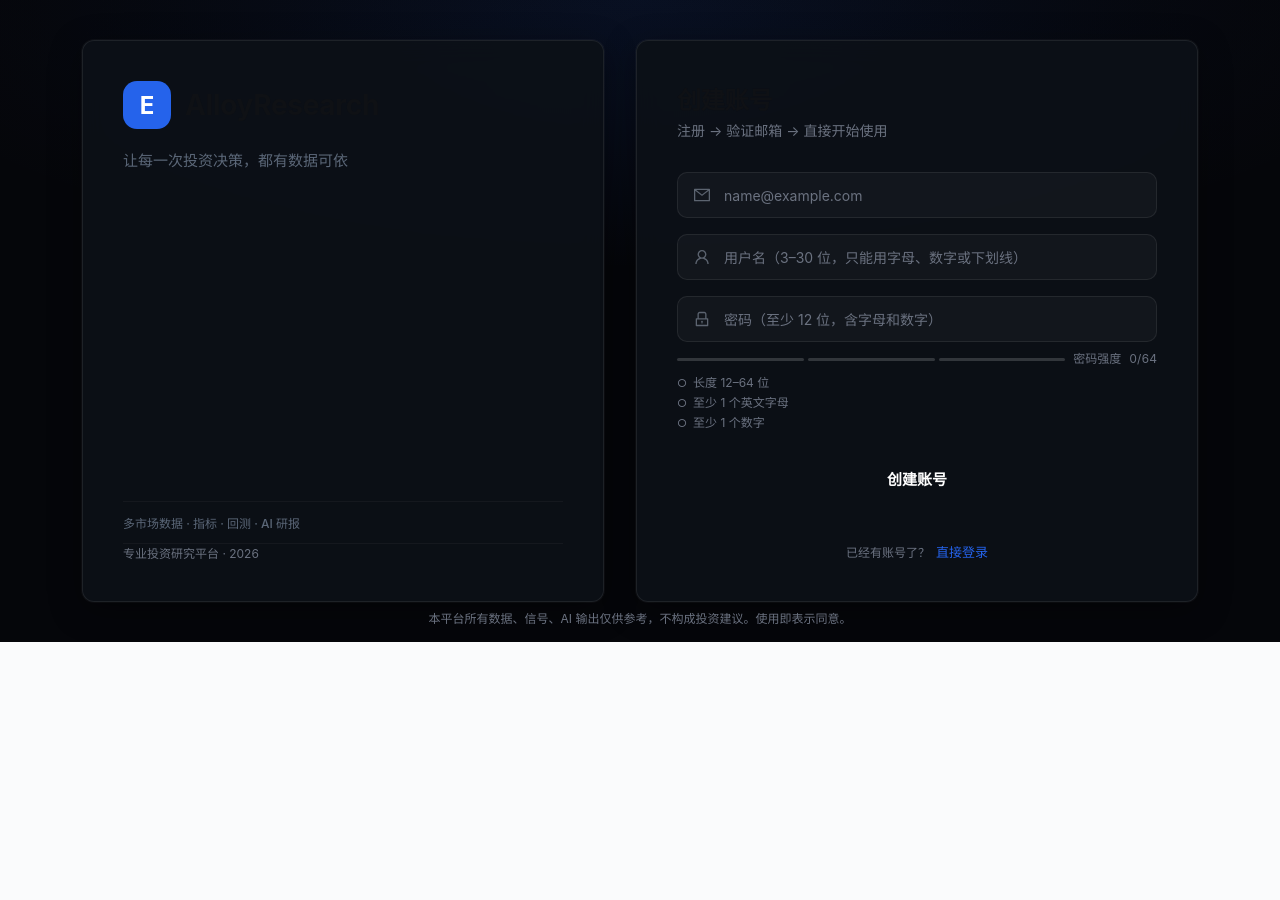
Scenario: 注册表单校验与提交流程 › 用户名被占用时展示人话文案 + 可点选的建议
The width and height of the screenshot is (1280, 900).
Step 1. Type "aidan" into the field labelled "用户名" → (931, 257), box [722,234,1140,280]
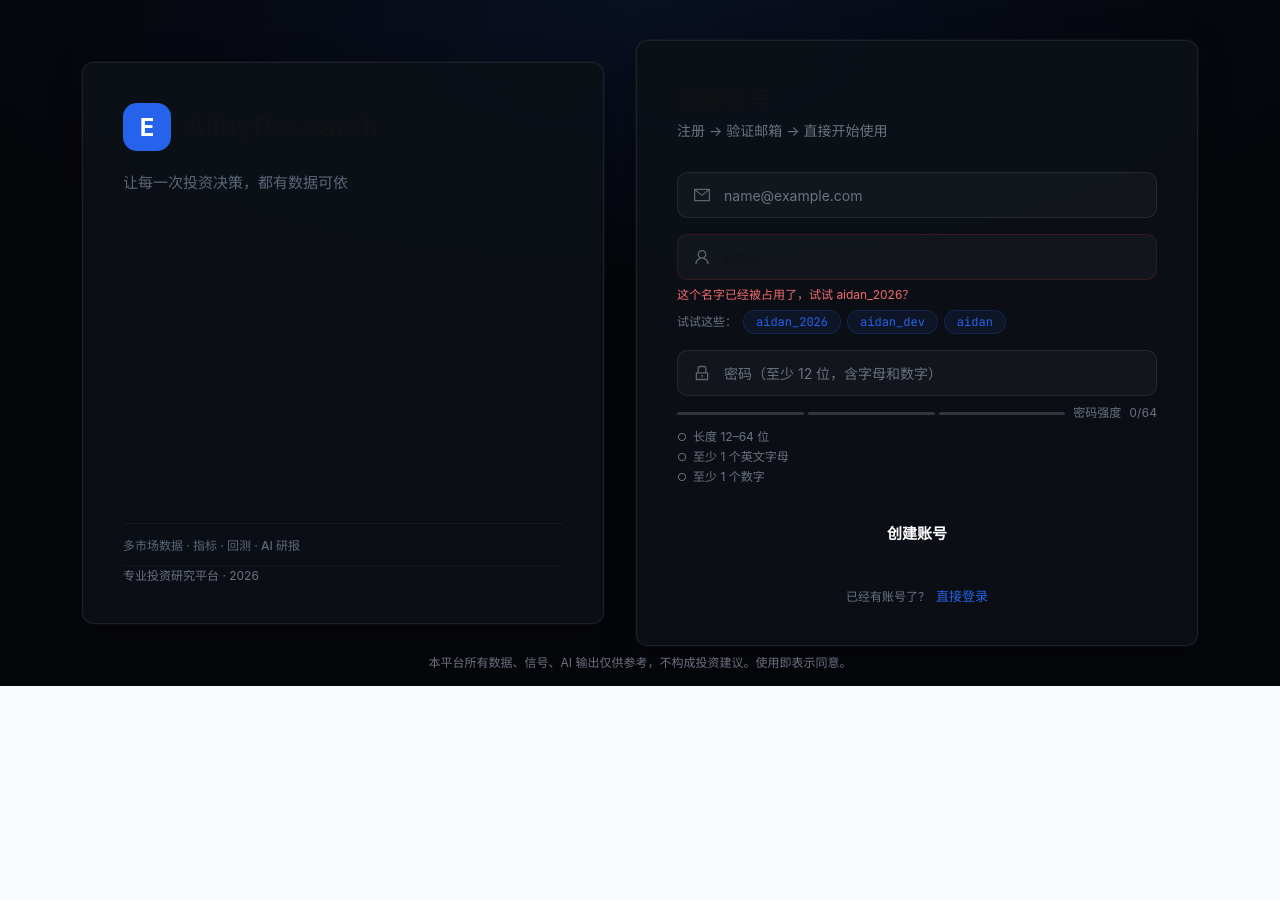
Check: the text "这个名字已经被占用了，试试 aidan_2026？" is shown, box [677,287,914,302]
Check: the button "aidan_dev" is shown, box [847,310,938,334]
点选建议自动填充并重新走查重
Step 2. Click the button "aidan_2026" → (792, 322), box [743,310,841,334]
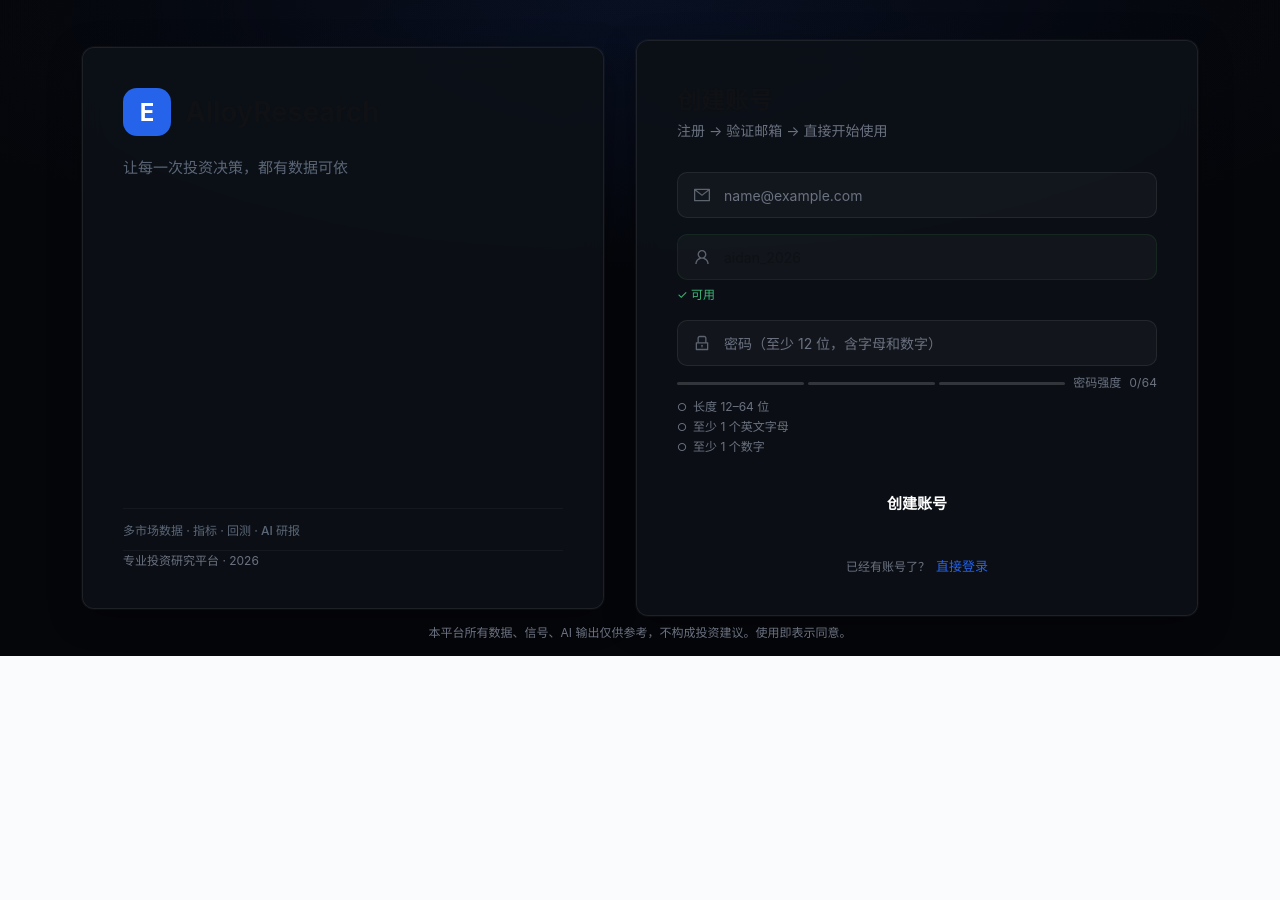
Check: the field named "用户名" holds "aidan_2026", box [722,234,1140,280]
Check: the text "✓ 可用" is shown, box [677,287,715,302]
